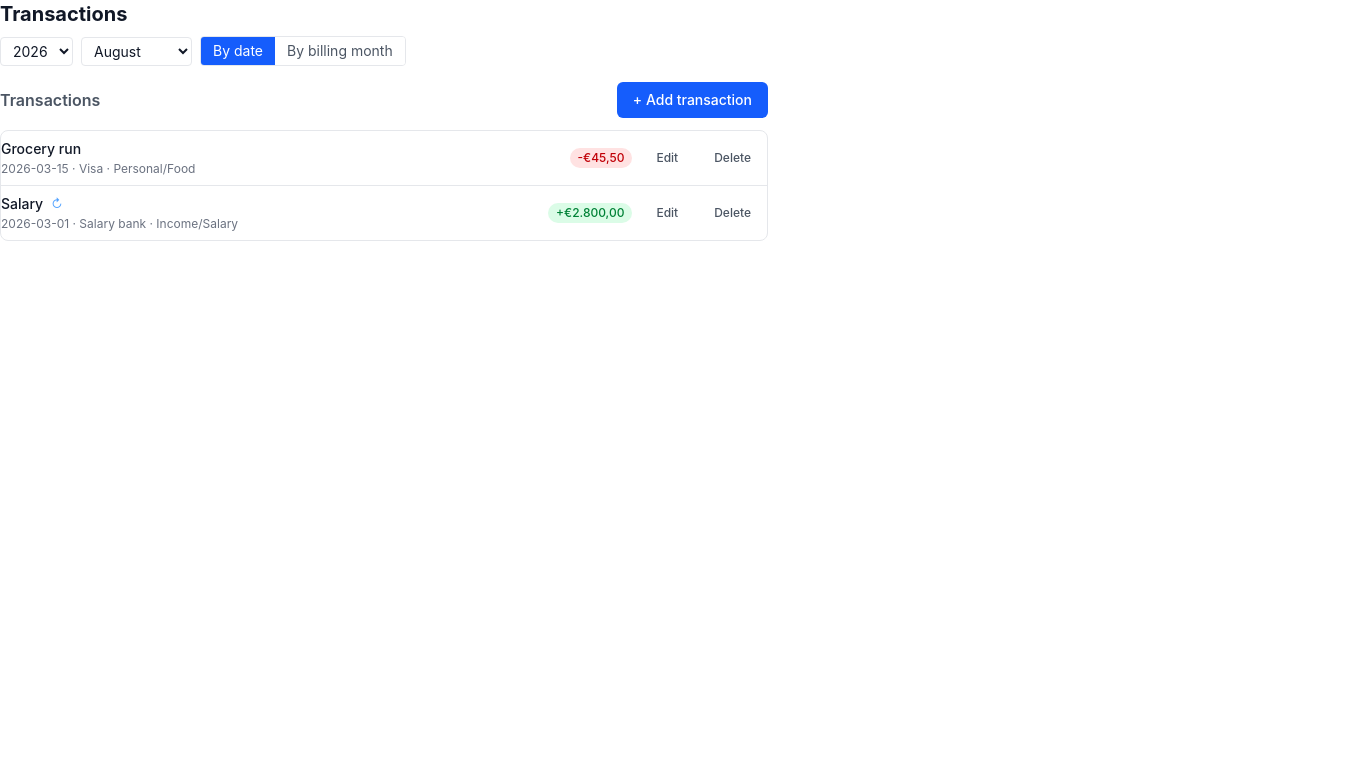
it: TransactionsPage delete button opens cascade modal with recurring options for recurring transaction
The image size is (1366, 768).
Expected: the text "Salary" is shown, [1,194,43,214]
Step 1. Click the button "Delete" in the row of "2026-03-01" → [733, 213], box [698,197,767,229]
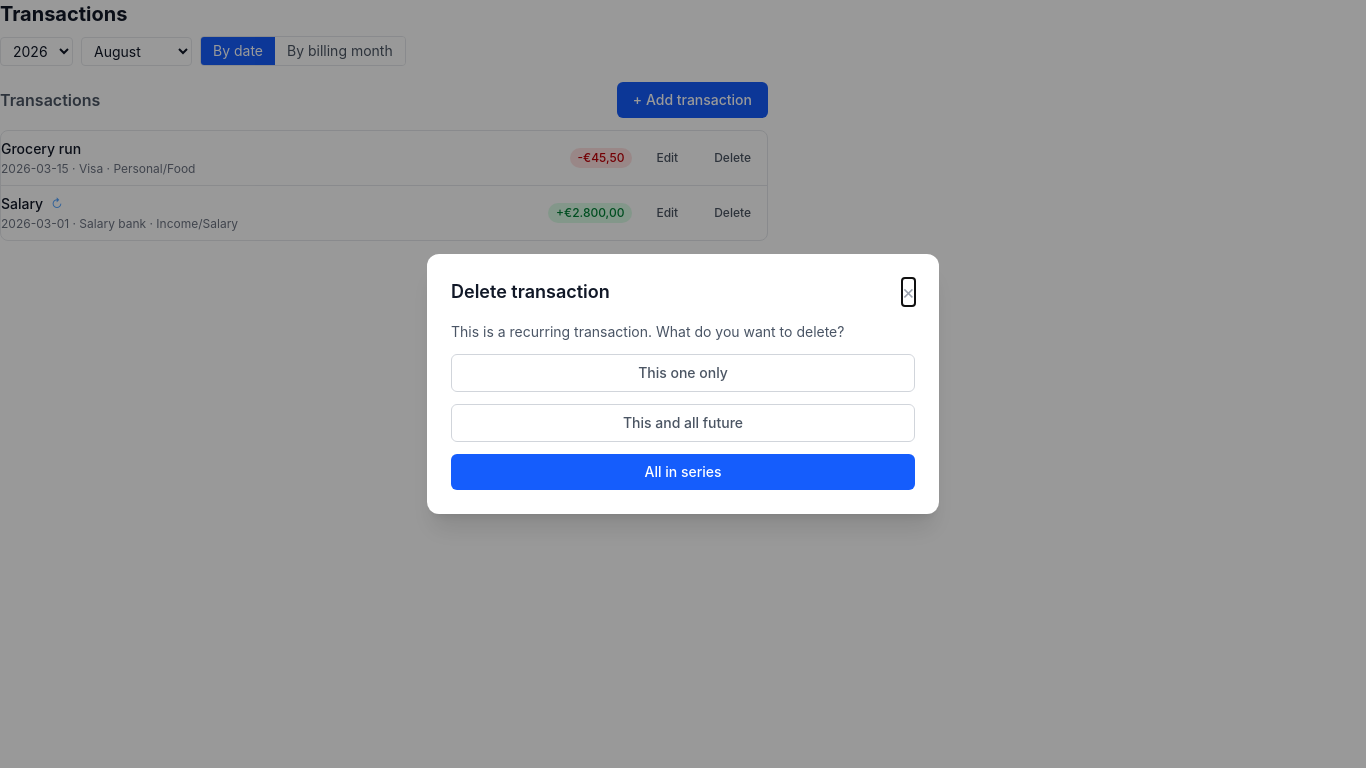
Now the dialog is shown, box [427,254,939,514]
Now the text "This is a recurring transaction. What do you want to delete?" is shown, box [451,323,844,340]
Now the button "This one only" is shown, box [451,354,915,392]
